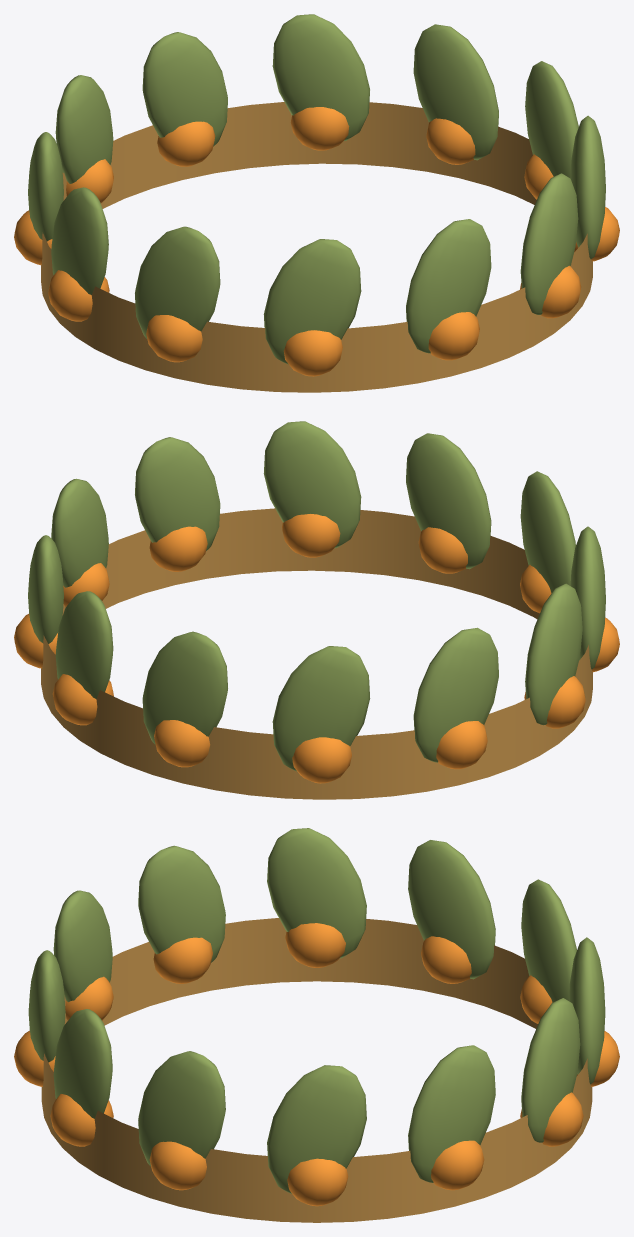
File: crown.glb
3 views of the same model, one above another, from view 1: azimuth 30°, elevation 25°; view 2: azimuth 150°, elevation 25°; view 3: azimuth 270°, elevation 25° (orthographic). The views are drawn at different scales.
Visible parts, largest first — view 1: Венец, Листок.002, Листок.008, Листок.001, Листок.009, Листок.003, Листок.007, Листок.010, Листок.004, Листок.006, Листок, Листок.011 (+13 smaller); view 2: Венец, Листок.010, Листок.004, Листок.009, Листок.005, Листок.011, Листок.003, Листок.006, Листок.008, Листок.002, Листок, Листок.007 (+13 smaller); view 3: Венец, Листок.006, Листок, Листок.005, Листок.001, Листок.007, Листок.011, Листок.002, Листок.010, Листок.004, Листок.008, Листок.003 (+13 smaller).
Part boxes in pixels (x1=…): Венец: x1=41, y1=102, x2=592, y2=392; Листок.002: x1=272, y1=14, x2=369, y2=140; Листок.008: x1=263, y1=239, x2=361, y2=364; Листок.001: x1=413, y1=24, x2=498, y2=160; Листок.009: x1=406, y1=219, x2=491, y2=353; Листок.003: x1=142, y1=32, x2=227, y2=146; Листок.007: x1=135, y1=226, x2=220, y2=338; Листок.010: x1=520, y1=173, x2=578, y2=314; Листок.004: x1=55, y1=75, x2=113, y2=183; Листок.006: x1=51, y1=187, x2=108, y2=294; Листок: x1=525, y1=61, x2=578, y2=177; Листок.011: x1=570, y1=115, x2=605, y2=259; Венец: x1=41, y1=508, x2=592, y2=799; Листок.010: x1=263, y1=421, x2=361, y2=548; Листок.004: x1=272, y1=646, x2=370, y2=771; Листок.009: x1=406, y1=433, x2=491, y2=569; Листок.005: x1=413, y1=627, x2=498, y2=762; Листок.011: x1=135, y1=437, x2=220, y2=550; Листок.003: x1=142, y1=631, x2=227, y2=744; Листок.006: x1=525, y1=583, x2=582, y2=725; Листок.008: x1=520, y1=471, x2=575, y2=592; Листок.002: x1=55, y1=591, x2=113, y2=698; Листок: x1=51, y1=478, x2=108, y2=587; Листок.007: x1=570, y1=526, x2=605, y2=669; Венец: x1=41, y1=918, x2=592, y2=1222; Листок.006: x1=267, y1=828, x2=366, y2=958; Листок: x1=267, y1=1065, x2=366, y2=1193; Листок.005: x1=408, y1=840, x2=495, y2=979; Листок.001: x1=408, y1=1045, x2=495, y2=1182; Листок.007: x1=138, y1=845, x2=225, y2=962; Листок.011: x1=138, y1=1051, x2=225, y2=1166; Листок.002: x1=521, y1=998, x2=580, y2=1142; Листок.010: x1=53, y1=1009, x2=112, y2=1118; Листок.004: x1=521, y1=879, x2=576, y2=1002; Листок.008: x1=53, y1=890, x2=112, y2=1002; Листок.003: x1=569, y1=937, x2=605, y2=1084.
Size of the model in its own units: 0.474 by 0.1291 by 0.458.
